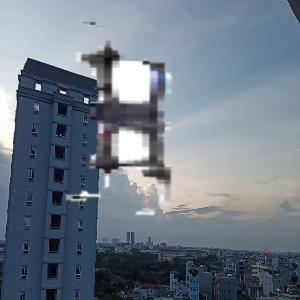drone: (13, 6, 228, 221)
